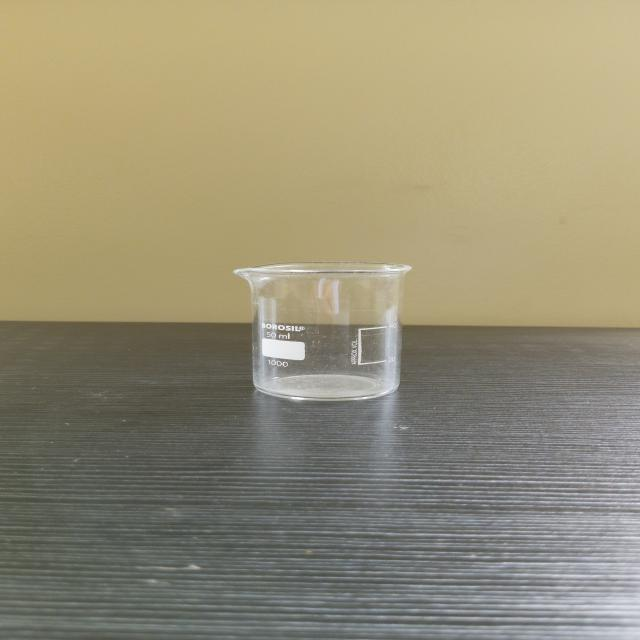beaker: (228, 259, 422, 404)
